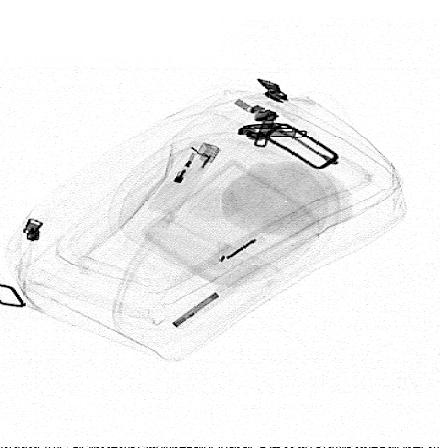Lighter: (164, 141, 219, 189)
